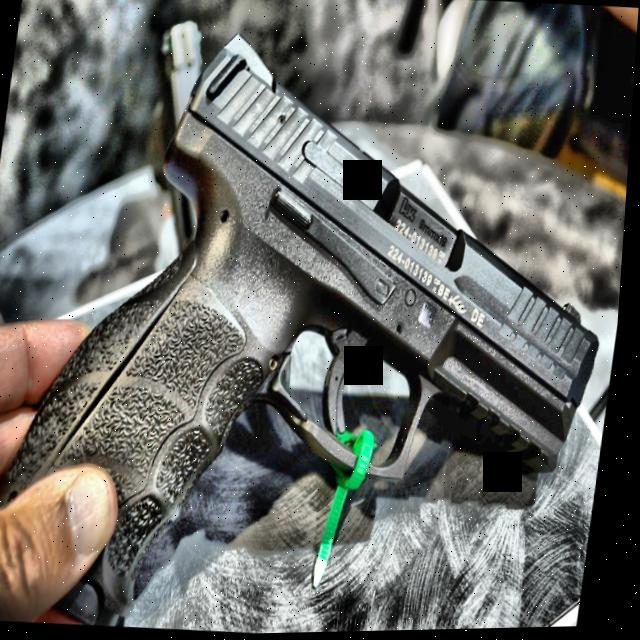HKVP9: (0, 10, 639, 640)
